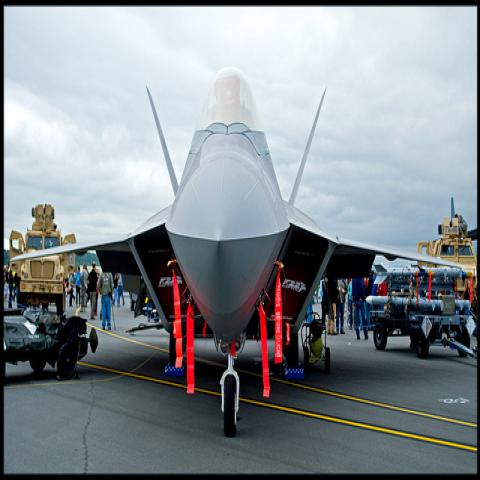truck: (365, 260, 478, 363), (418, 194, 478, 300), (10, 228, 76, 313)
